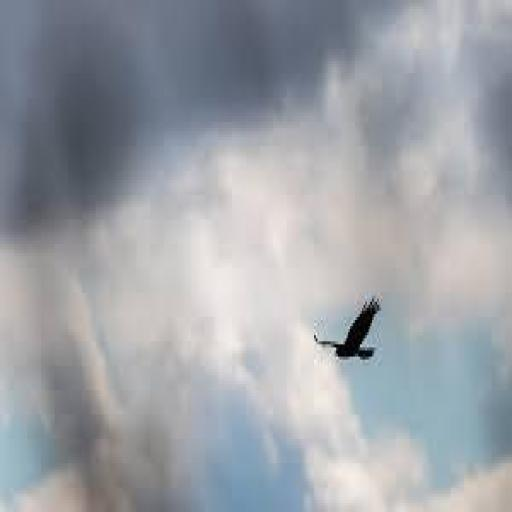birds: (314, 291, 384, 367)
